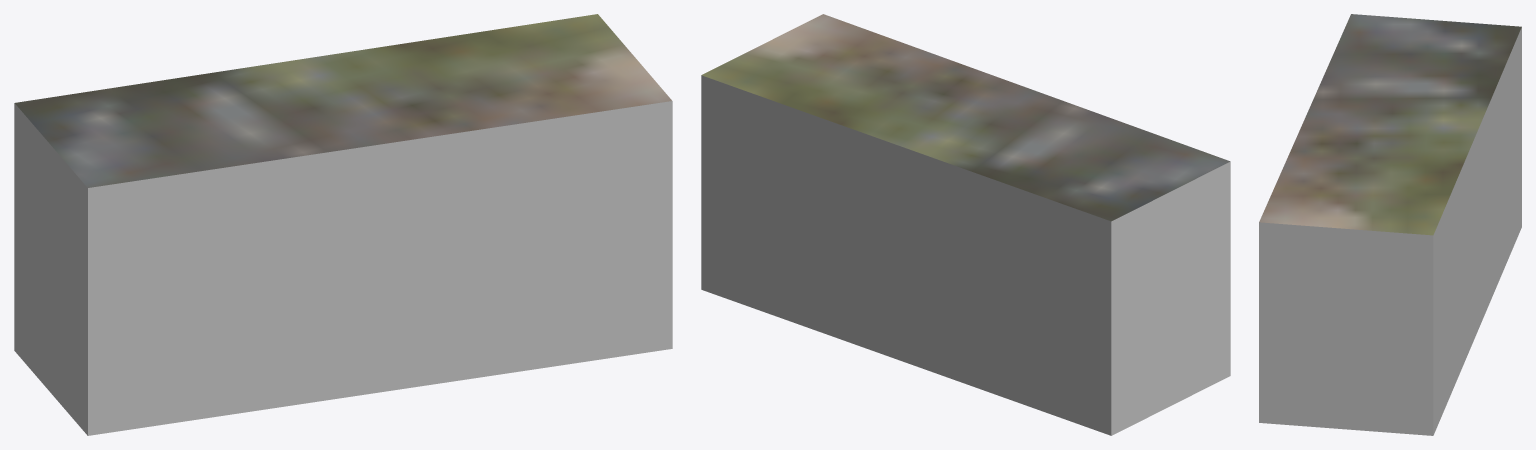
The model's file is DEBW_0010007THTj.gltf.
The picture shows the model from 3 angles, left to right: view 1: azimuth 30°, elevation 25°; view 2: azimuth 150°, elevation 25°; view 3: azimuth 270°, elevation 25°; orthographic projection. The views are drawn at different scales.
Visible parts, largest first — view 1: Z_UP; view 2: Z_UP; view 3: Z_UP.
Boxes of the visible parts, x1,y1,x2,y2 form: Z_UP: (14,14,672,435); Z_UP: (701,14,1230,435); Z_UP: (1259,14,1521,435).
Size of the model in its own units: 5.92 by 2.5 by 2.97.
Materials: 2 (1 with a texture image).
